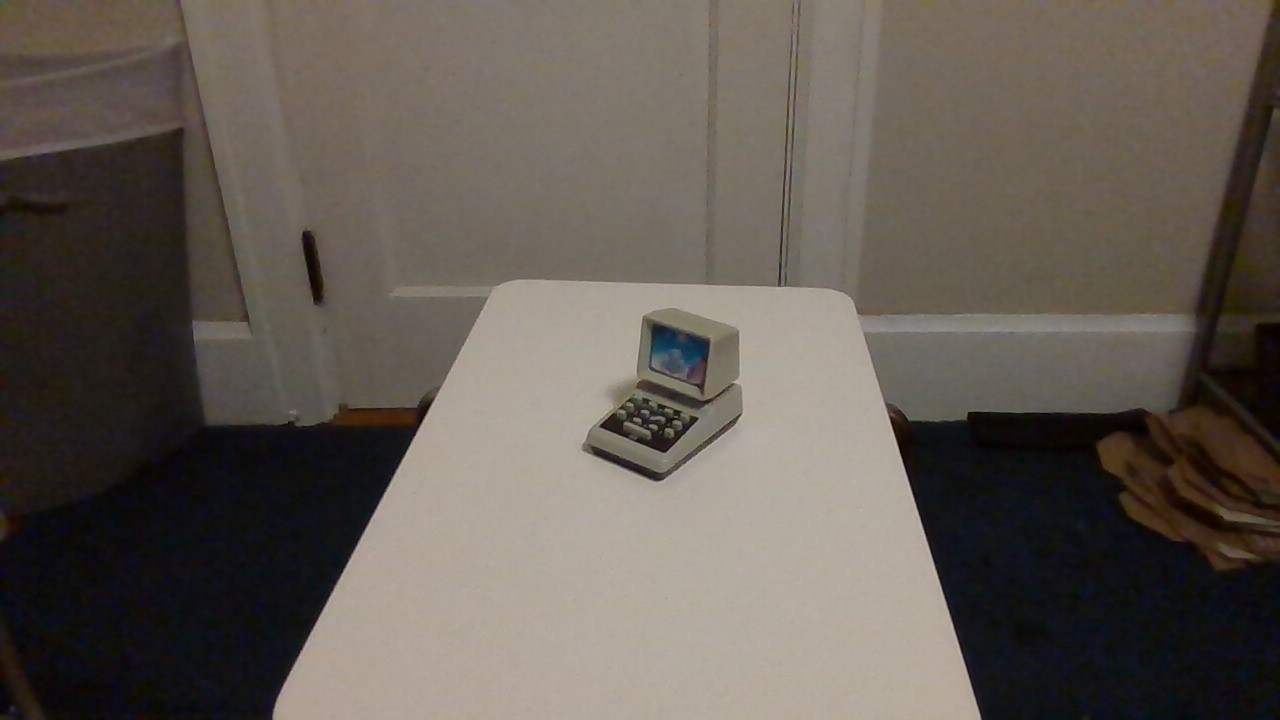Toy: (575, 292, 764, 488)
